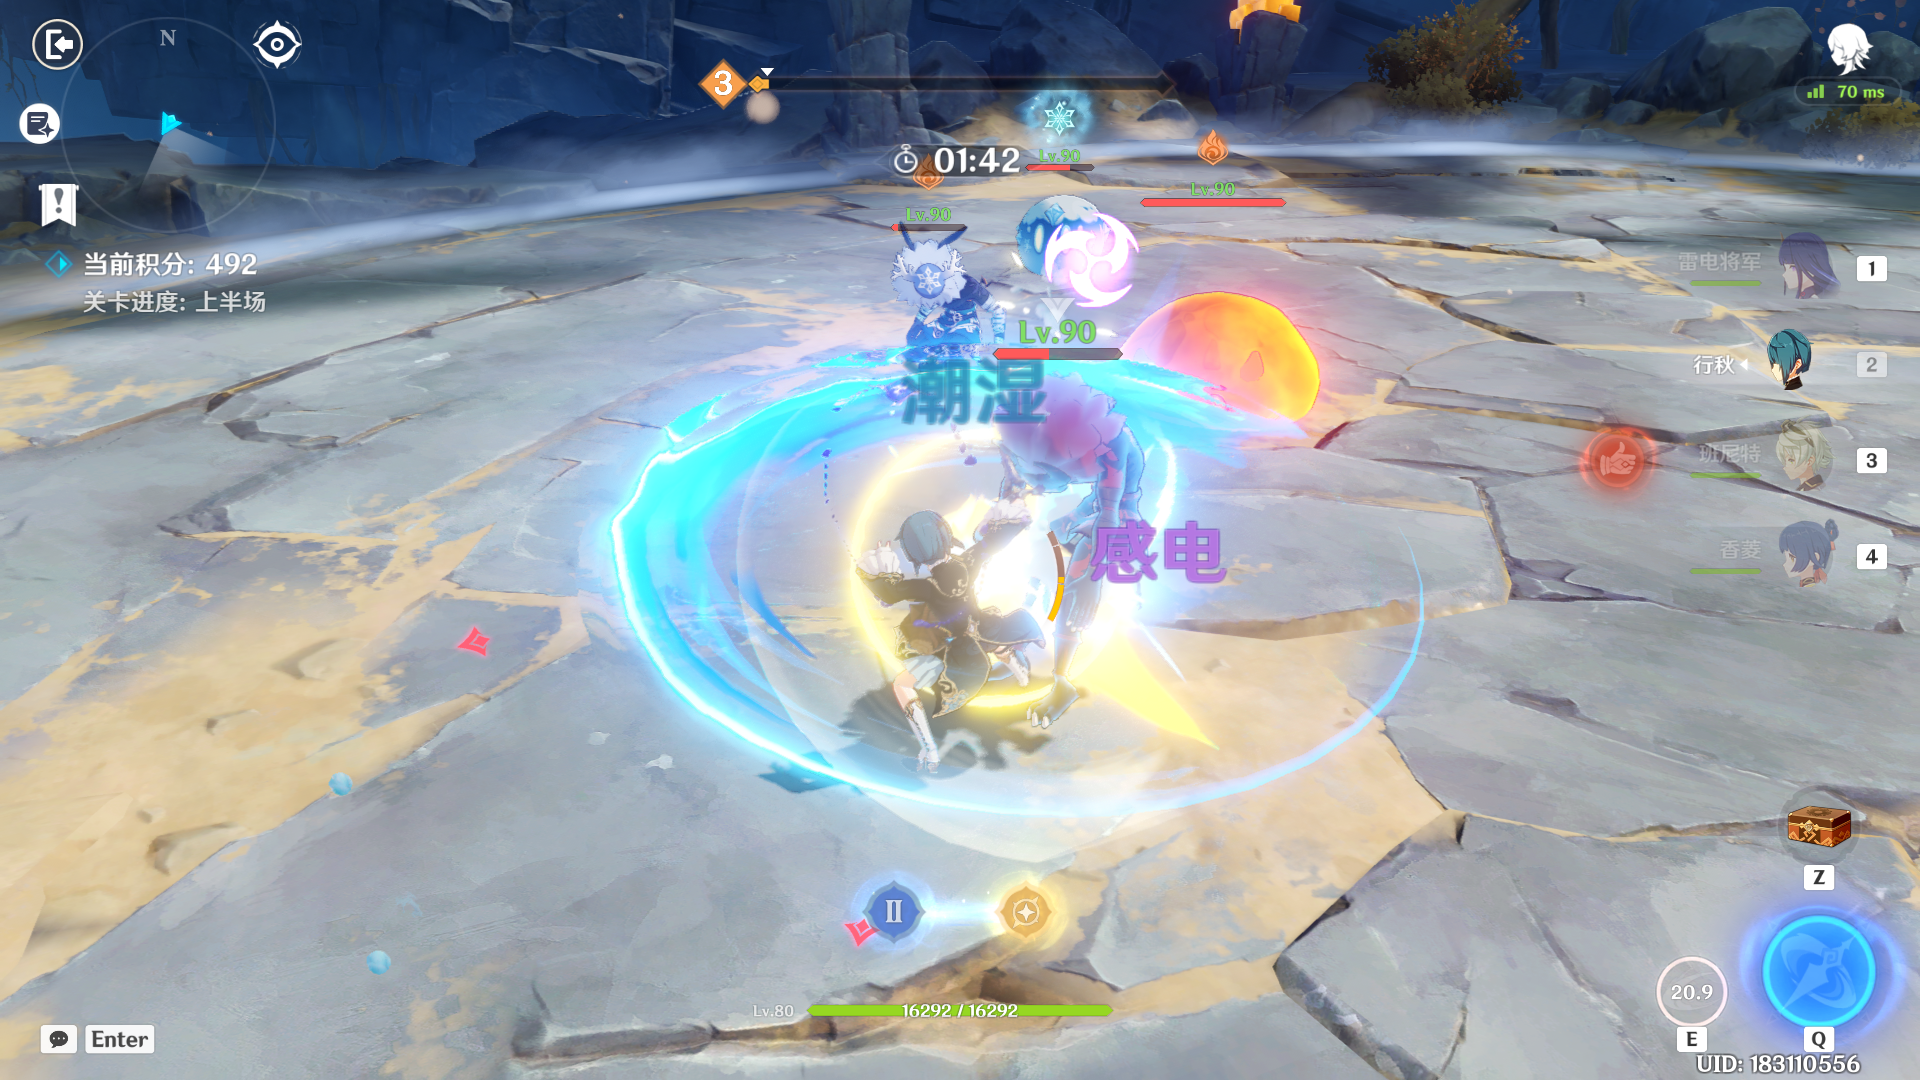character: (825, 458, 1077, 833)
hili: (976, 349, 1195, 691), (843, 214, 1021, 439)
